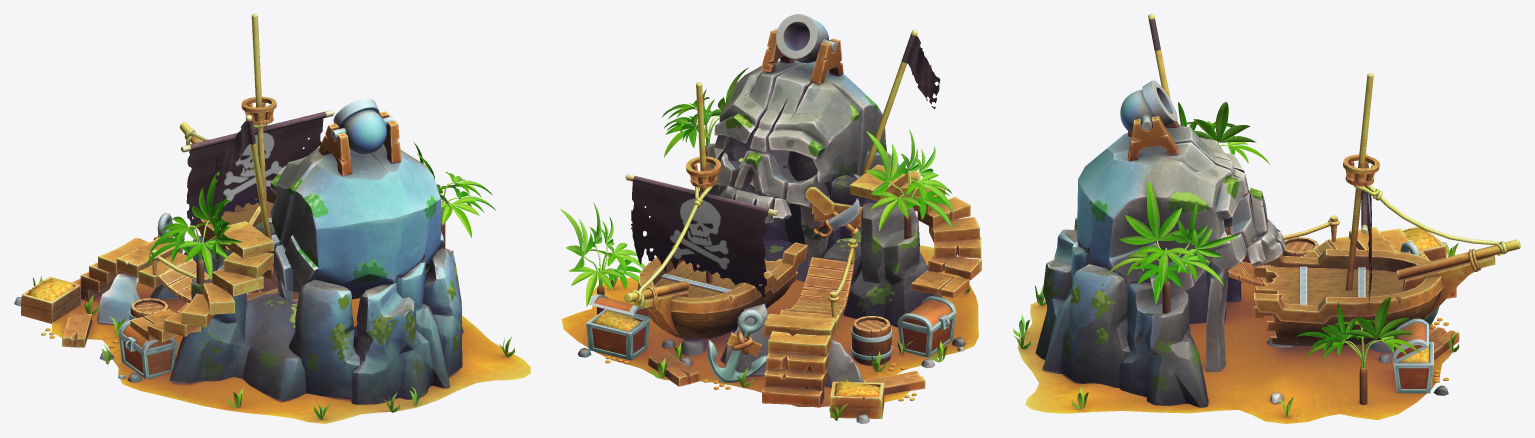
File: island.glb
The picture shows the model from 3 angles, left to right: view 1: azimuth 30°, elevation 25°; view 2: azimuth 150°, elevation 25°; view 3: azimuth 270°, elevation 25°; orthographic projection. The views are drawn at different scales.
Visible parts, largest first — view 1: Object_5; view 2: Object_5; view 3: Object_5.
Boxes of the visible parts, <box> form: Object_5: <box>14,14,530,423</box>; Object_5: <box>559,14,981,423</box>; Object_5: <box>1013,14,1520,423</box>.
Bounding box in the file's own units: 8.78 × 6.47 × 10.45.
2 materials, 2 textured.
